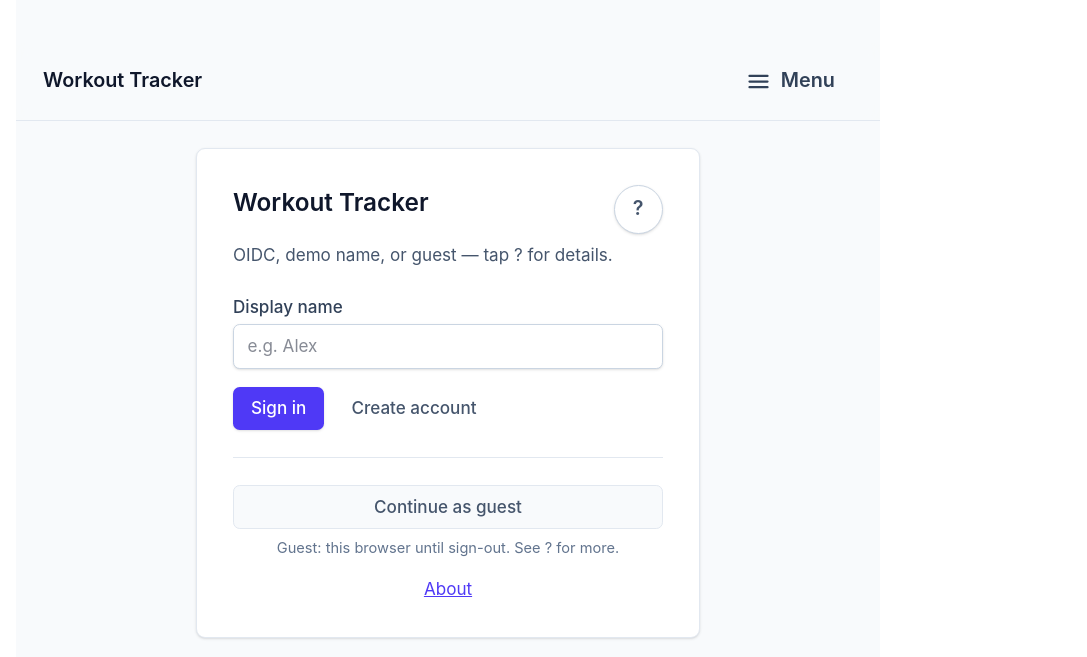
Test: App › continues as guest and shows workouts (MSW)
This screenshot has width=1087, height=657.
Click the button "Continue as guest".
click(448, 507)  # box top-left (233, 484), bottom-right (663, 529)
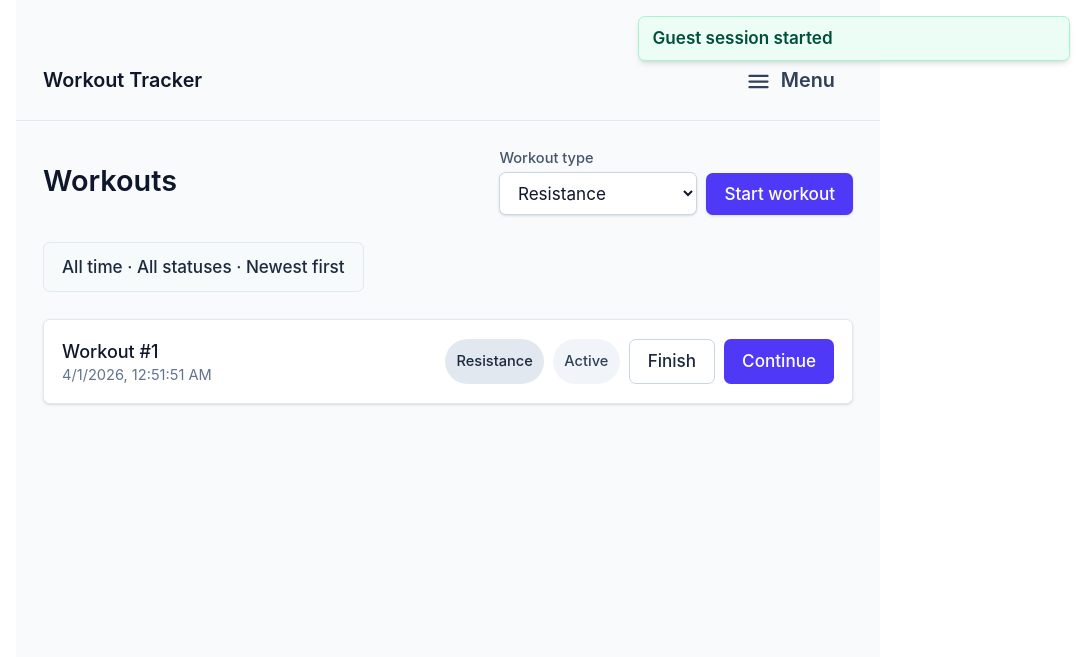
Expected: the heading "Workouts" is shown, top-left (43, 162), bottom-right (177, 200)
Expected: the button "Start workout" is shown, top-left (706, 172), bottom-right (853, 215)
